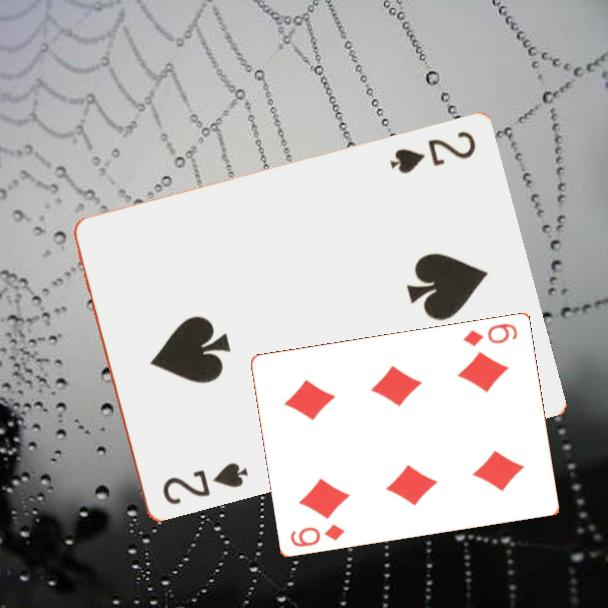d06: (459, 320, 520, 350), (287, 521, 347, 550)
s02: (386, 128, 479, 178), (158, 459, 251, 508)
